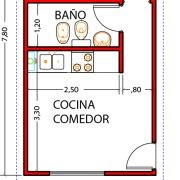door: (127, 140, 158, 171), (91, 4, 121, 30)
room: (26, 3, 154, 89), (29, 89, 155, 172), (149, 1, 159, 145), (22, 1, 30, 176), (26, 44, 120, 52), (117, 28, 126, 74), (104, 170, 157, 177), (22, 170, 50, 177)
window: (50, 170, 106, 177)
